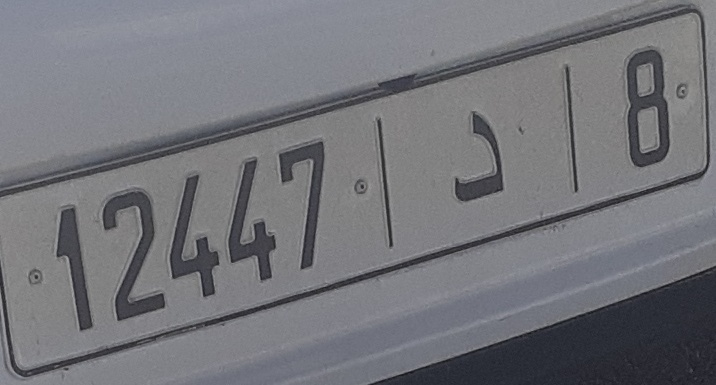1: (52, 202, 100, 334)
2: (100, 190, 169, 323)
4: (165, 173, 224, 301), (226, 154, 281, 284)
7: (277, 138, 328, 272)
8: (621, 46, 674, 171)
d: (446, 108, 508, 204)
